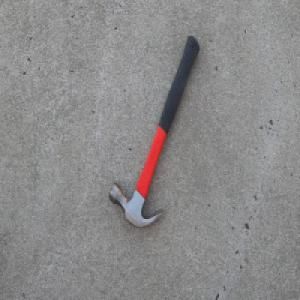Hammer: (108, 34, 200, 230)
